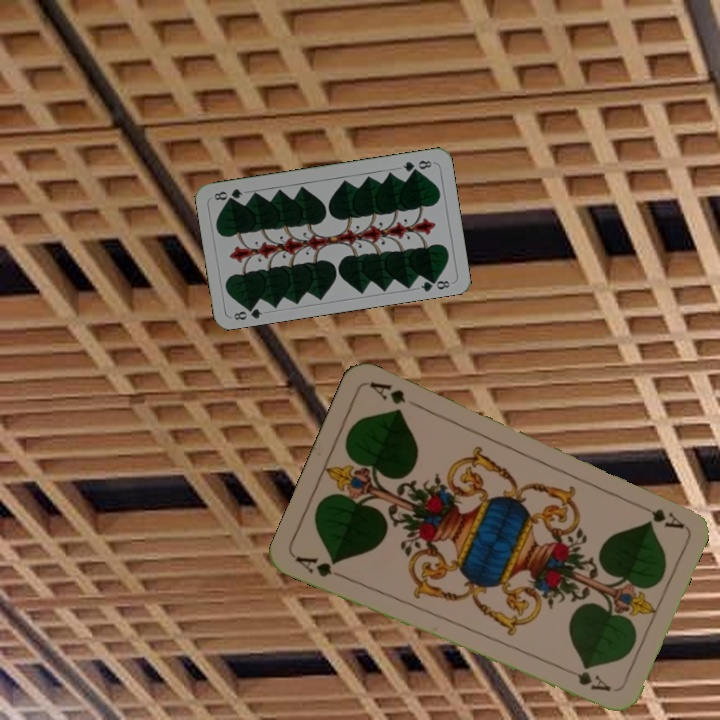G8: (229, 301, 265, 323), (399, 156, 436, 175)
GA: (630, 498, 686, 531), (291, 552, 348, 581)
